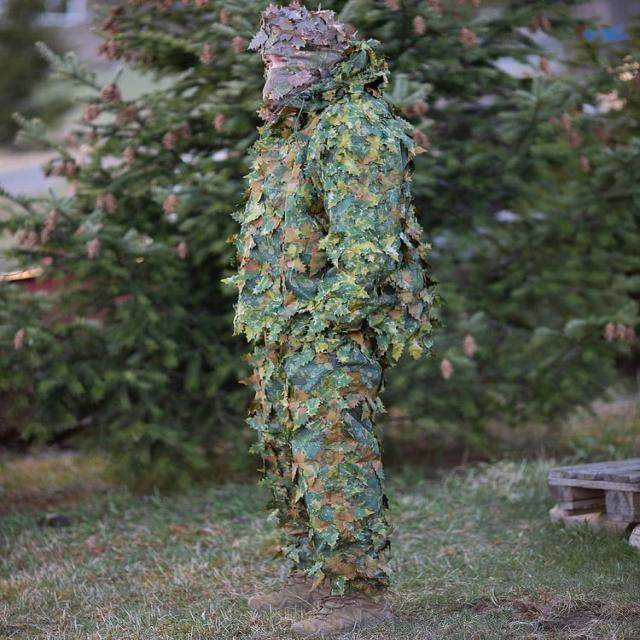Human: (221, 2, 447, 640)
